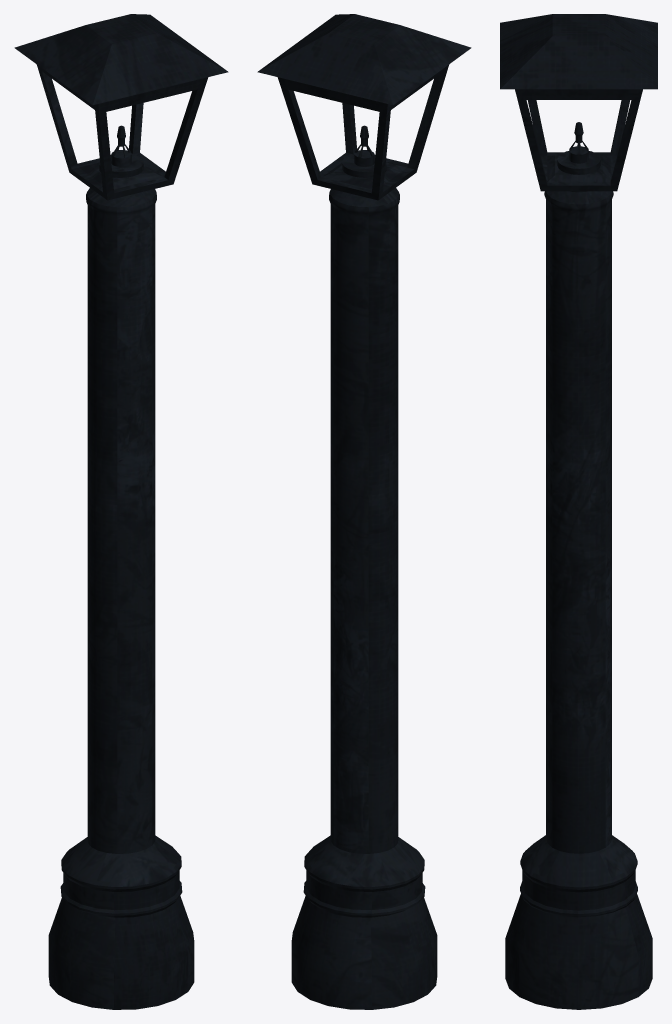
Rendered from Lamp.fbx.
The picture shows the model from 3 angles, left to right: view 1: azimuth 30°, elevation 25°; view 2: azimuth 150°, elevation 25°; view 3: azimuth 270°, elevation 25°; orthographic projection.
Visible parts, largest first — view 1: pCube6; view 2: pCube6; view 3: pCube6.
Boxes of the visible parts, x1,y1,x2,y2 form: pCube6: [14, 14, 228, 1009]; pCube6: [257, 14, 471, 1009]; pCube6: [500, 14, 657, 1009].
Size of the model in its own units: 1.84 by 12.3 by 1.84.
1 material, 1 textured.
